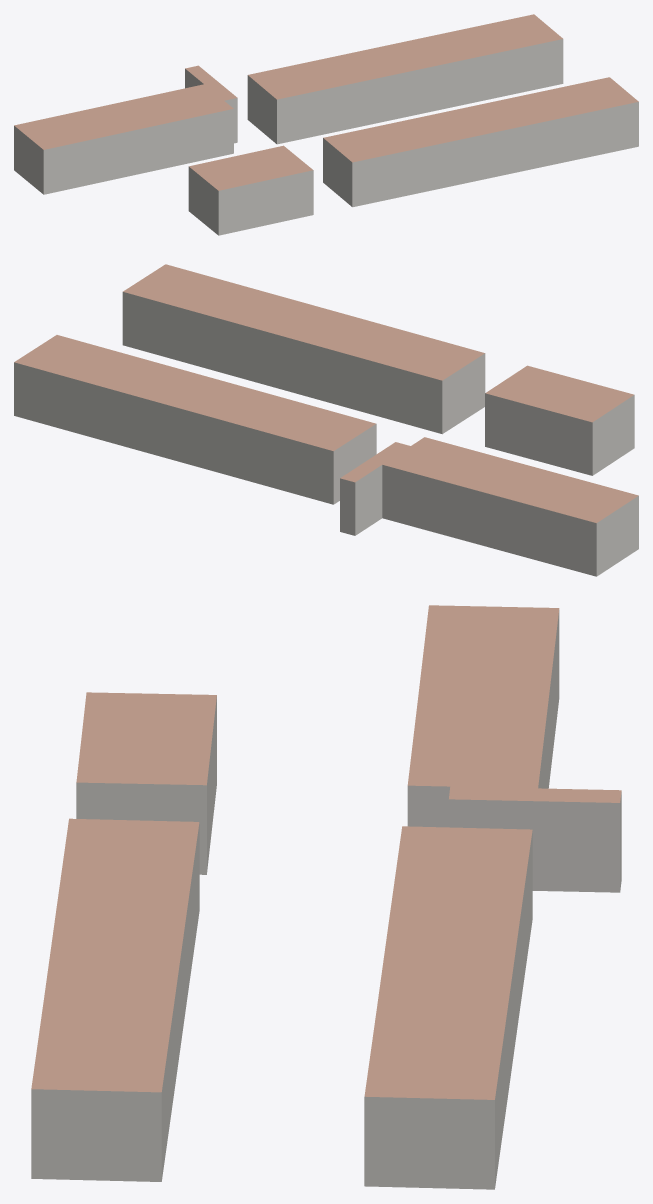
The model's file is gridID_112.dae.
3 renders of one model, top to bottom at view 1: azimuth 30°, elevation 25°; view 2: azimuth 150°, elevation 25°; view 3: azimuth 270°, elevation 25°, orthographic. The views are drawn at different scales.
Parts seen in each view (by area): view 1: model_gridID_112_r6179497_001, model_gridID_112_r6179491, model_gridID_112_r6179496_001, model_gridID_112_r6179510, model_gridID_112_r6179496, model_gridID_112_r6179497, model_gridID_112_r6179498, model_gridID_112_r6179502, model_gridID_112_r6179507, model_gridID_112_r6179507_001; view 2: model_gridID_112_r6179510, model_gridID_112_r6179491, model_gridID_112_r6179496_001, model_gridID_112_r6179497_001, model_gridID_112_r6179498, model_gridID_112_r6179507, model_gridID_112_r6179496, model_gridID_112_r6179497, model_gridID_112_r6179502, model_gridID_112_r6179507_001; view 3: model_gridID_112_r6179502, model_gridID_112_r6179498, model_gridID_112_r6179491, model_gridID_112_r6179507, model_gridID_112_r6179497, model_gridID_112_r6179496, model_gridID_112_r6179497_001, model_gridID_112_r6179496_001, model_gridID_112_r6179510, model_gridID_112_r6179507_001.
Part boxes in pixels (x1,y1,x2,y2): model_gridID_112_r6179497_001: (247, 55, 372, 144); model_gridID_112_r6179491: (188, 145, 313, 235); model_gridID_112_r6179496_001: (323, 117, 447, 207); model_gridID_112_r6179510: (14, 105, 138, 194); model_gridID_112_r6179496: (419, 97, 543, 186); model_gridID_112_r6179497: (343, 34, 467, 124); model_gridID_112_r6179498: (514, 77, 638, 166); model_gridID_112_r6179502: (439, 14, 563, 103); model_gridID_112_r6179507: (109, 84, 233, 173); model_gridID_112_r6179507_001: (185, 65, 237, 143); model_gridID_112_r6179510: (489, 466, 638, 576); model_gridID_112_r6179491: (485, 365, 634, 475); model_gridID_112_r6179496_001: (336, 323, 485, 434); model_gridID_112_r6179497_001: (227, 394, 376, 504); model_gridID_112_r6179498: (122, 264, 271, 374); model_gridID_112_r6179507: (382, 437, 531, 547); model_gridID_112_r6179496: (229, 294, 378, 404); model_gridID_112_r6179497: (120, 364, 269, 474); model_gridID_112_r6179502: (14, 335, 162, 445); model_gridID_112_r6179507_001: (340, 442, 410, 535); model_gridID_112_r6179502: (364, 1006, 507, 1189); model_gridID_112_r6179498: (31, 999, 174, 1181); model_gridID_112_r6179491: (76, 692, 216, 874); model_gridID_112_r6179507: (407, 695, 548, 827); model_gridID_112_r6179497: (377, 916, 519, 1097); model_gridID_112_r6179496: (44, 909, 186, 1090); model_gridID_112_r6179497_001: (389, 826, 532, 1007); model_gridID_112_r6179496_001: (56, 818, 199, 999); model_gridID_112_r6179510: (418, 605, 559, 787); model_gridID_112_r6179507_001: (448, 786, 621, 892).
Bounding box in the file's own units: 88.72 × 44.74 × 7.5.
